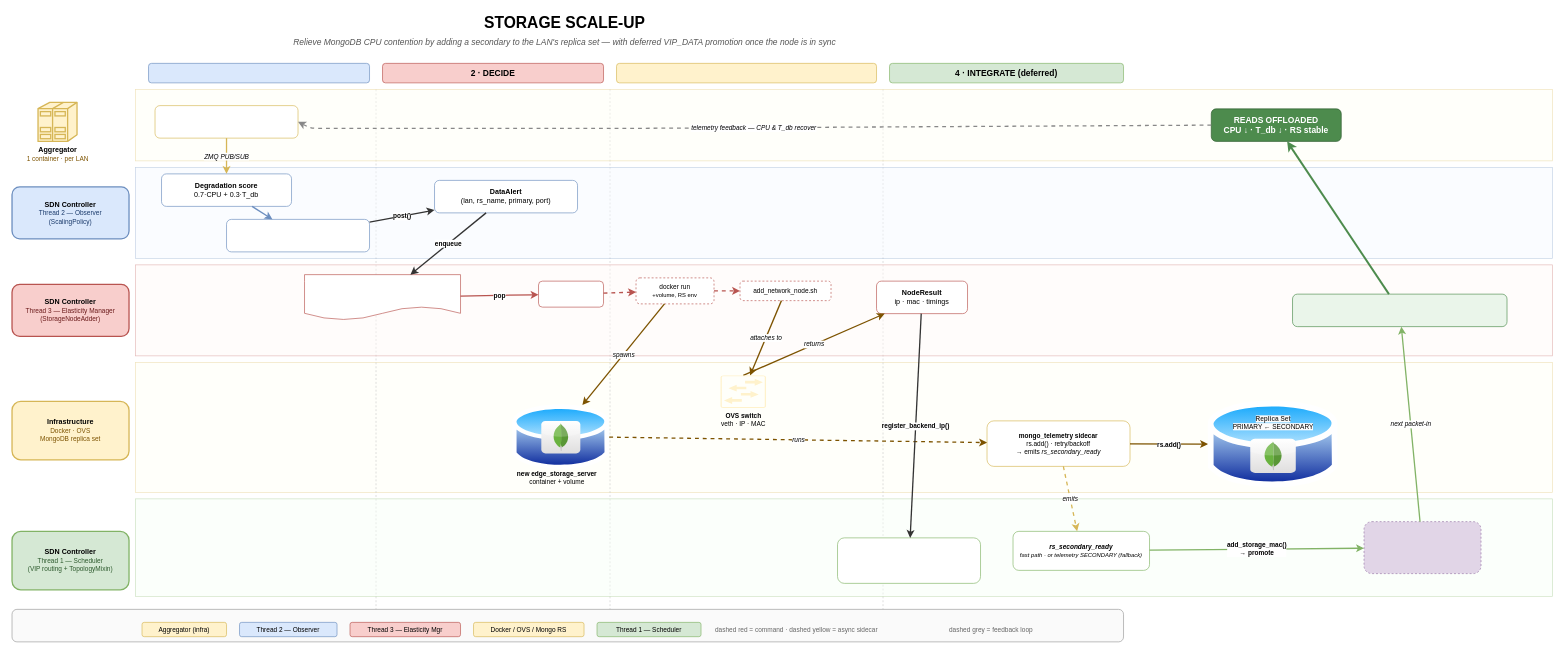
Image size: 1564x653. Some labels were removed from this diagram. The box of each missing label's shape, as (x1, y1, x2, y2) in pixels:
1 · DETECT: (148, 63, 370, 83)
3 · PROVISION: (616, 63, 877, 83)
Breach sustained 2-of-5 window · diminishing τ: (226, 219, 370, 252)
Dispatch → StorageNodeAdder: (538, 280, 604, 307)
Legend — who does what: (11, 609, 1124, 642)
Packet-in → WSM cost picks new secondary → DNAT/SNAT OpenFlow rule installed: (1292, 293, 1507, 327)
PriorityQueue storage scale-up · priority 1 (highest): (304, 274, 461, 320)
TelemetrySummary (CPU, T_db, ~10 s window): (154, 105, 298, 138)
TopologyMixin register_backend_ip() (MAC registration deferred): (837, 537, 981, 583)
VIP_DATA pool in-memory dict + new backend (promoted): (1363, 521, 1481, 574)
